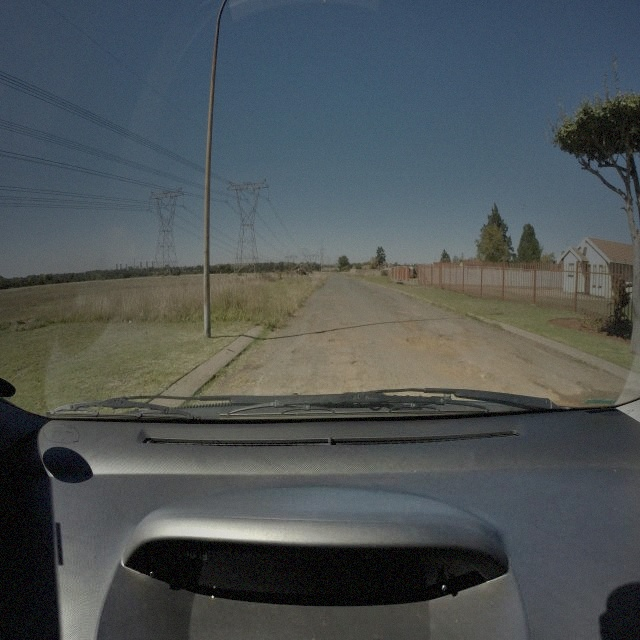pothole: (407, 334, 441, 354), (438, 335, 454, 348), (329, 336, 348, 345), (352, 359, 358, 367)
